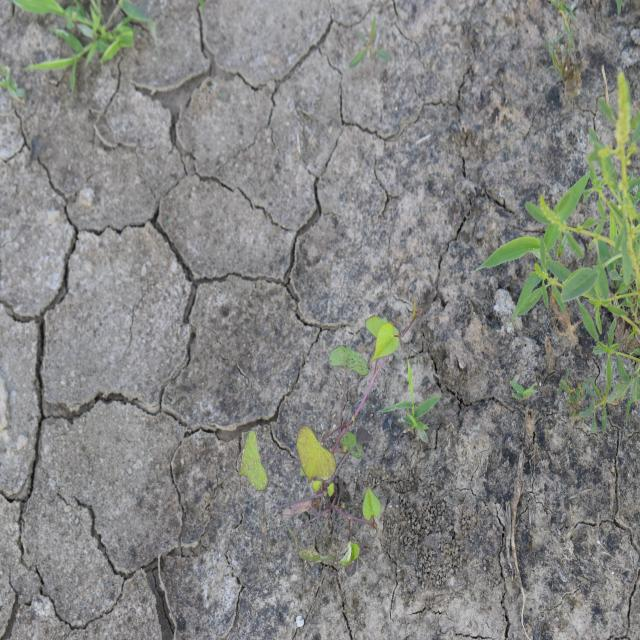MorningGlory: (236, 297, 422, 568)
Waterhemp: (517, 72, 638, 437)
